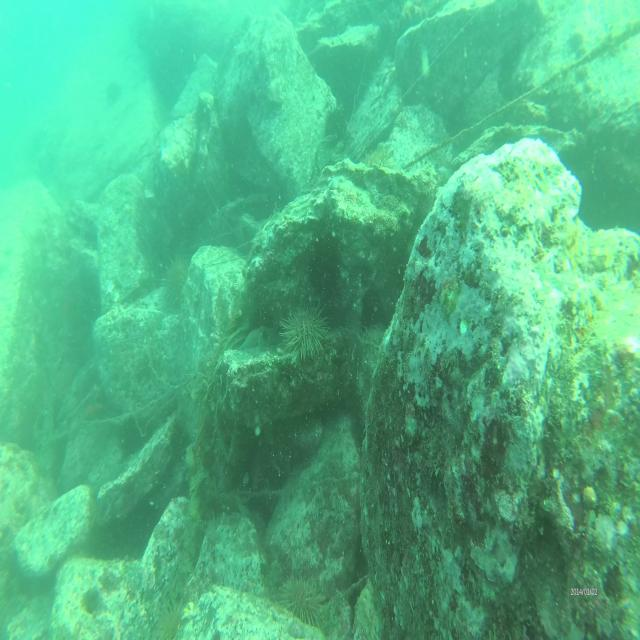echinus: (279, 296, 336, 361), (278, 564, 328, 632), (158, 255, 194, 314), (153, 598, 187, 640), (118, 416, 148, 461), (359, 145, 395, 172)
